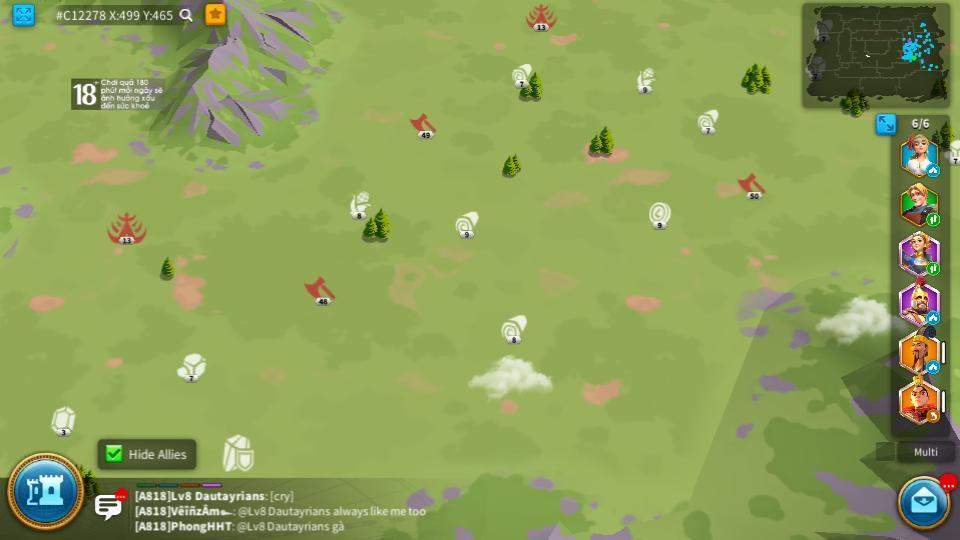gem-z-out: (51, 407, 77, 436)
march_idle: (927, 312, 940, 324), (927, 165, 940, 177), (927, 362, 940, 373)
march_marching: (925, 263, 938, 275), (927, 216, 940, 227)
march_returning: (926, 410, 941, 422)
